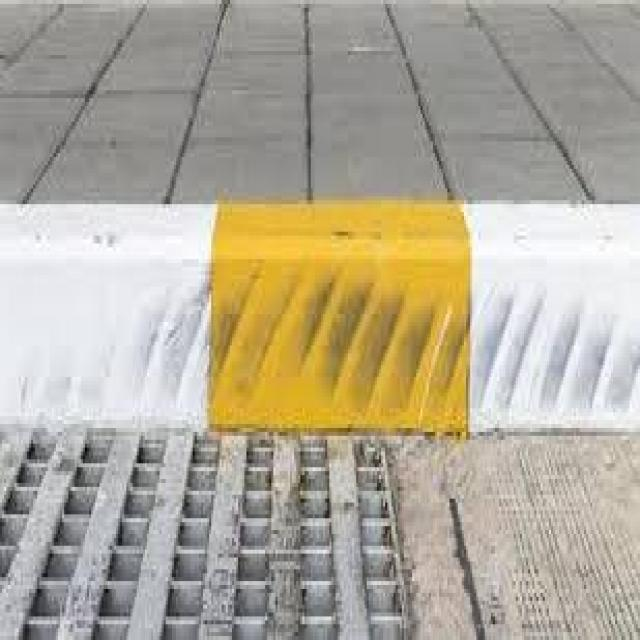curb: (1, 204, 640, 442)
